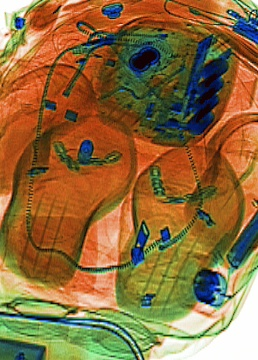powerbank: (175, 43, 241, 147)
